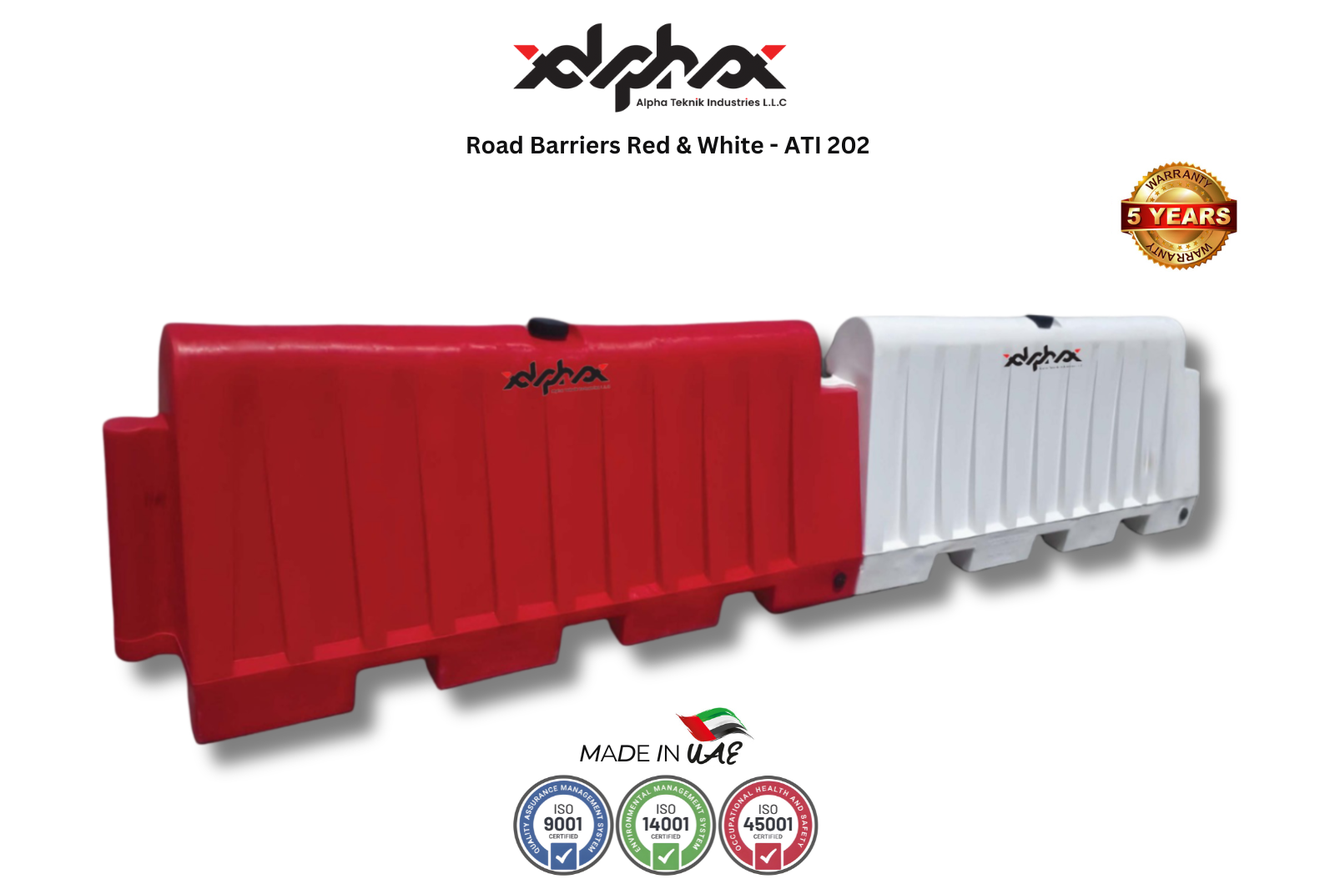Barrier: (97, 294, 1273, 733)
